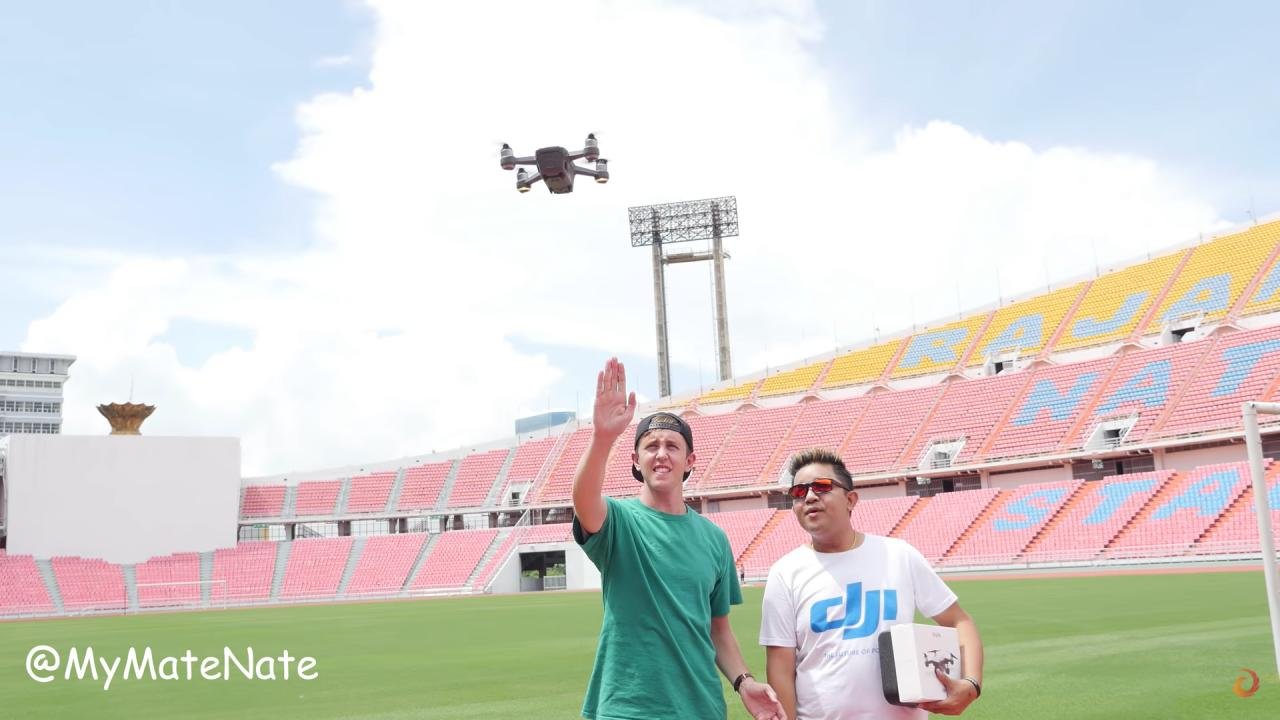Drone: (472, 118, 626, 206)
